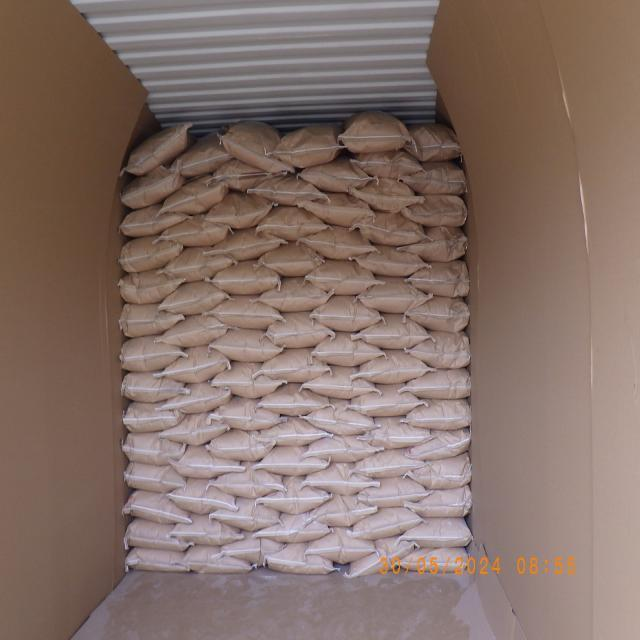gunny_bag: (222, 122, 294, 178), (123, 122, 192, 180), (268, 124, 344, 170), (338, 113, 412, 156), (348, 536, 417, 580), (256, 476, 330, 516), (120, 164, 185, 209), (356, 314, 430, 352), (347, 178, 423, 215), (300, 226, 378, 262), (172, 132, 233, 178), (211, 461, 286, 498), (160, 246, 234, 283), (211, 362, 285, 399), (311, 296, 383, 334), (208, 296, 284, 332), (162, 344, 232, 383), (160, 176, 228, 216), (356, 278, 429, 315), (353, 212, 428, 248), (355, 348, 430, 384), (306, 526, 378, 563), (306, 260, 380, 296), (258, 346, 330, 383), (208, 328, 284, 363), (349, 383, 425, 418), (168, 476, 238, 514), (257, 277, 330, 313), (263, 312, 334, 349), (304, 366, 379, 401), (169, 445, 244, 480), (249, 174, 326, 208), (118, 234, 183, 274), (305, 401, 377, 437), (300, 158, 372, 194), (301, 194, 375, 229), (124, 490, 194, 527), (256, 206, 327, 242), (257, 382, 330, 417), (312, 332, 385, 367), (209, 228, 284, 262), (207, 193, 274, 231), (253, 512, 330, 545), (158, 280, 228, 316), (358, 416, 430, 451), (210, 497, 282, 532), (211, 260, 281, 296), (408, 453, 474, 491), (406, 296, 472, 334), (158, 411, 229, 446), (351, 506, 424, 540), (402, 226, 469, 263), (171, 512, 243, 546), (212, 398, 284, 432), (120, 336, 184, 374), (304, 462, 380, 494), (308, 495, 379, 529), (257, 242, 324, 278), (406, 261, 469, 299), (158, 314, 228, 348), (118, 202, 186, 237), (160, 381, 232, 414), (400, 516, 474, 548), (408, 332, 470, 370), (158, 215, 229, 248), (402, 124, 460, 164), (120, 431, 186, 466), (404, 368, 474, 401), (305, 434, 382, 464), (124, 517, 190, 552), (256, 416, 328, 448), (357, 476, 429, 508), (408, 426, 473, 461), (400, 162, 466, 196), (208, 431, 276, 464), (407, 484, 473, 518), (401, 195, 467, 229), (356, 247, 426, 279), (220, 532, 284, 567), (352, 448, 426, 478), (256, 446, 330, 476), (178, 546, 252, 576), (119, 304, 184, 338), (264, 544, 333, 576), (404, 400, 472, 432), (120, 270, 184, 304), (350, 150, 422, 180), (212, 160, 276, 193), (120, 371, 187, 402), (398, 546, 472, 574), (124, 460, 188, 492), (122, 401, 184, 433), (125, 548, 192, 576)
